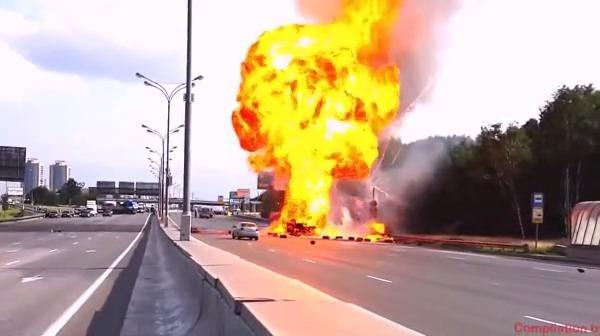fire: (231, 0, 408, 246)
